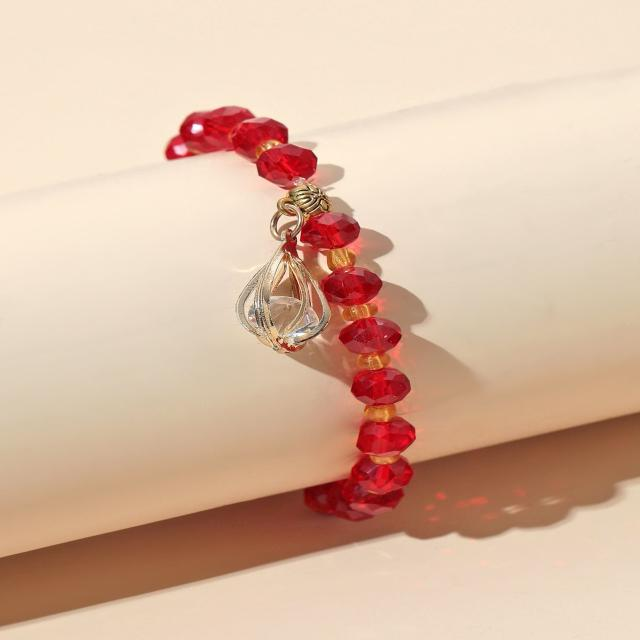bracelet: (91, 11, 571, 580)
